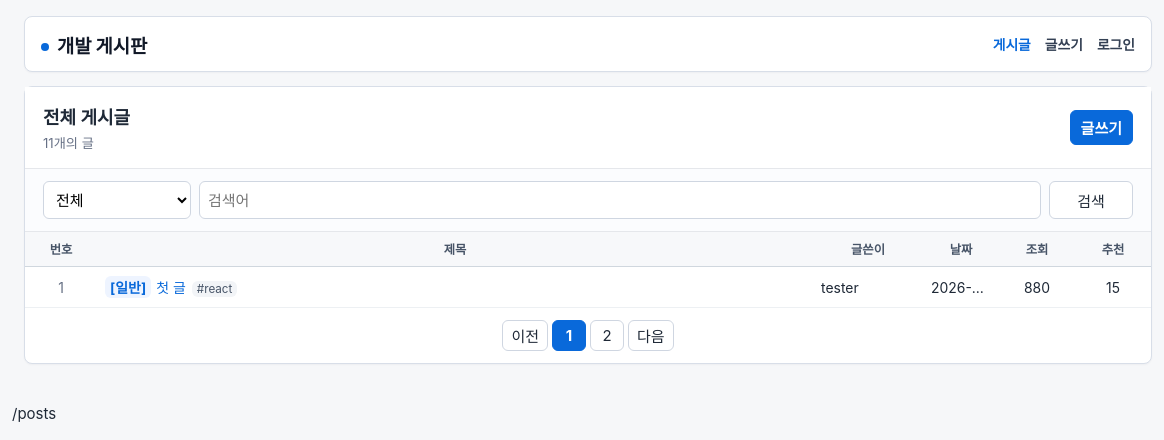
it: 게시글 › 검색어와 필터를 유지한 채 페이지를 이동한다
The image size is (1164, 440).
Select "일반" in the dropdown named "말머리" at (117, 200), box x1=43 y1=181 x2=191 y2=219
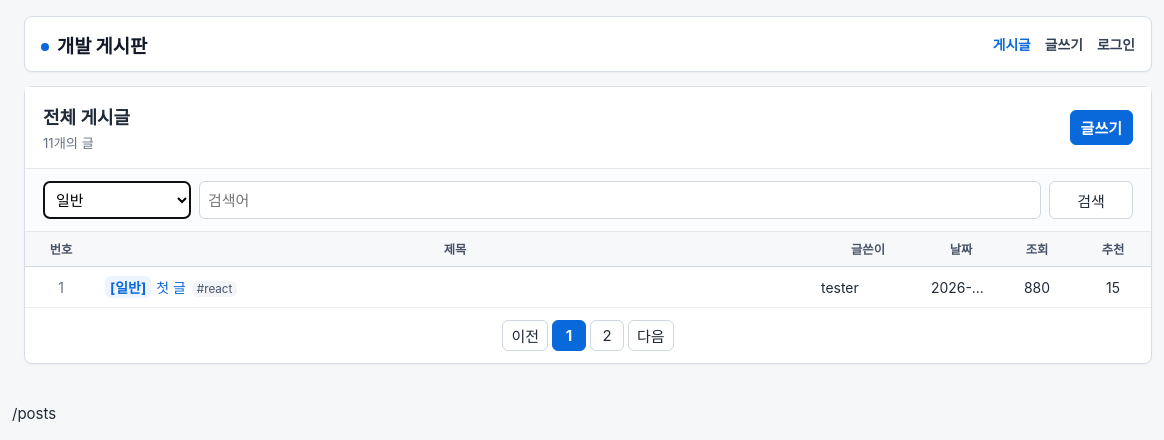
Type "React" into the field labelled "검색어" at (620, 200), box x1=199 y1=181 x2=1041 y2=219
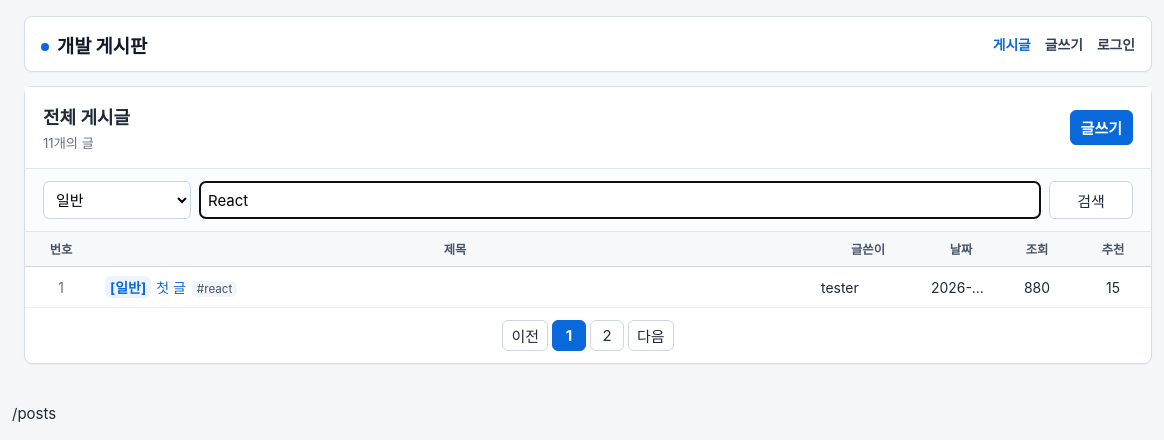
Click the button "검색" at (1091, 200), box x1=1049 y1=181 x2=1133 y2=219
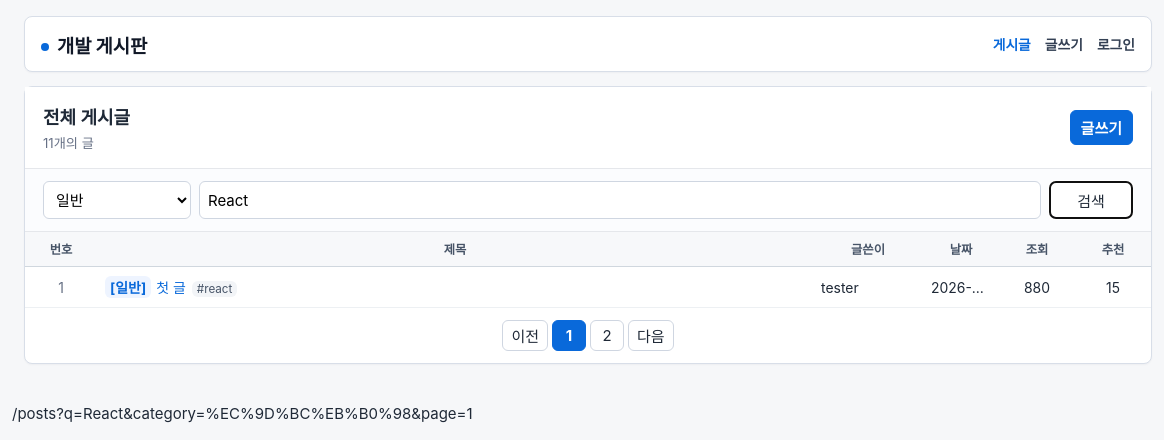
Click the button "2" at (607, 336), box x1=590 y1=320 x2=624 y2=351
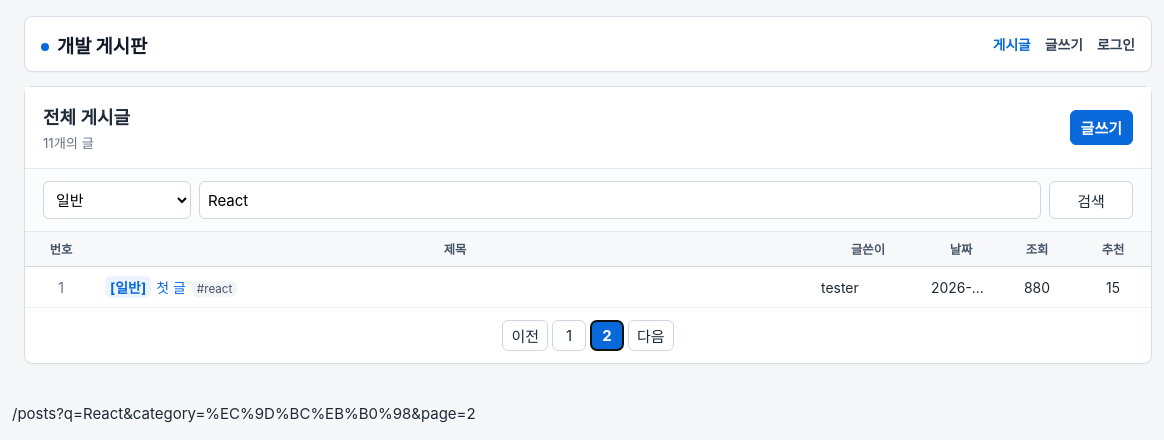
Check: the text named "현재 주소" reads "/posts?q=React&category=%EC%9D%BC%EB%B0%98&page=2", box x1=12 y1=404 x2=476 y2=423
